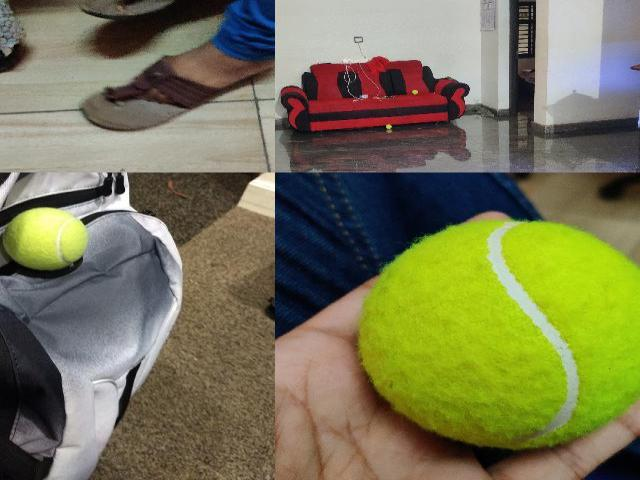tennis-ball: (358, 219, 639, 450), (2, 206, 88, 270), (412, 89, 418, 94), (385, 125, 391, 129)
